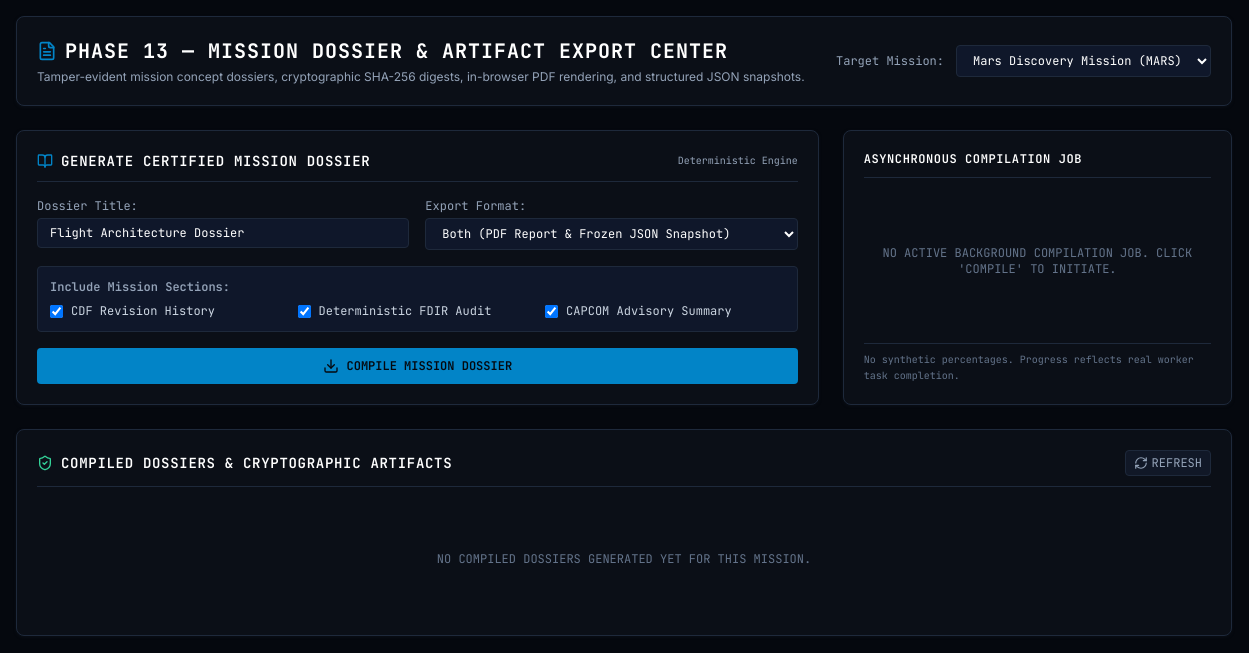
Scenario: Phase 13 — Mission Dossier & Artifact Export Center › submits asynchronous compilation job and displays authoritative progress percent
What coordinates should you click on to do the following:
click the button "COMPILE MISSION DOSSIER"
I would click on:
 (417, 366)
Its box is [37,348,798,384].
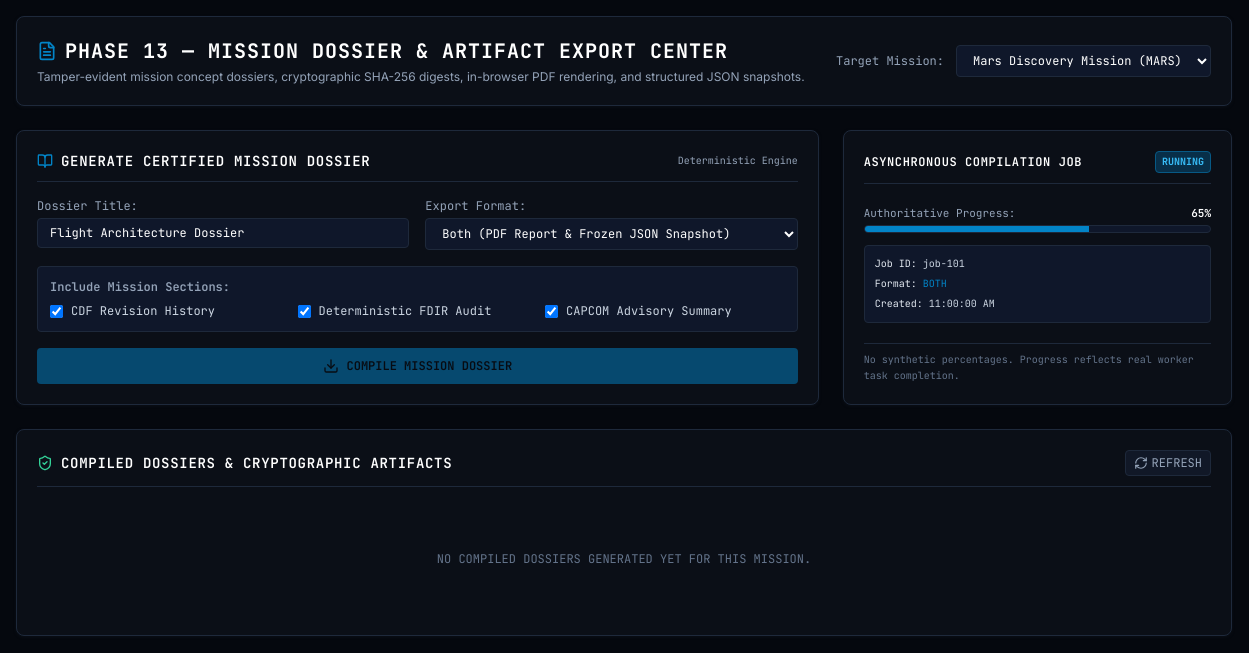
Result: the element with test id "active-dossier-job" is shown at [864,204,1211,322]
Result: the text "65%" is shown at [1191,204,1211,220]
Result: the text "RUNNING" is shown at [1155,151,1211,173]
